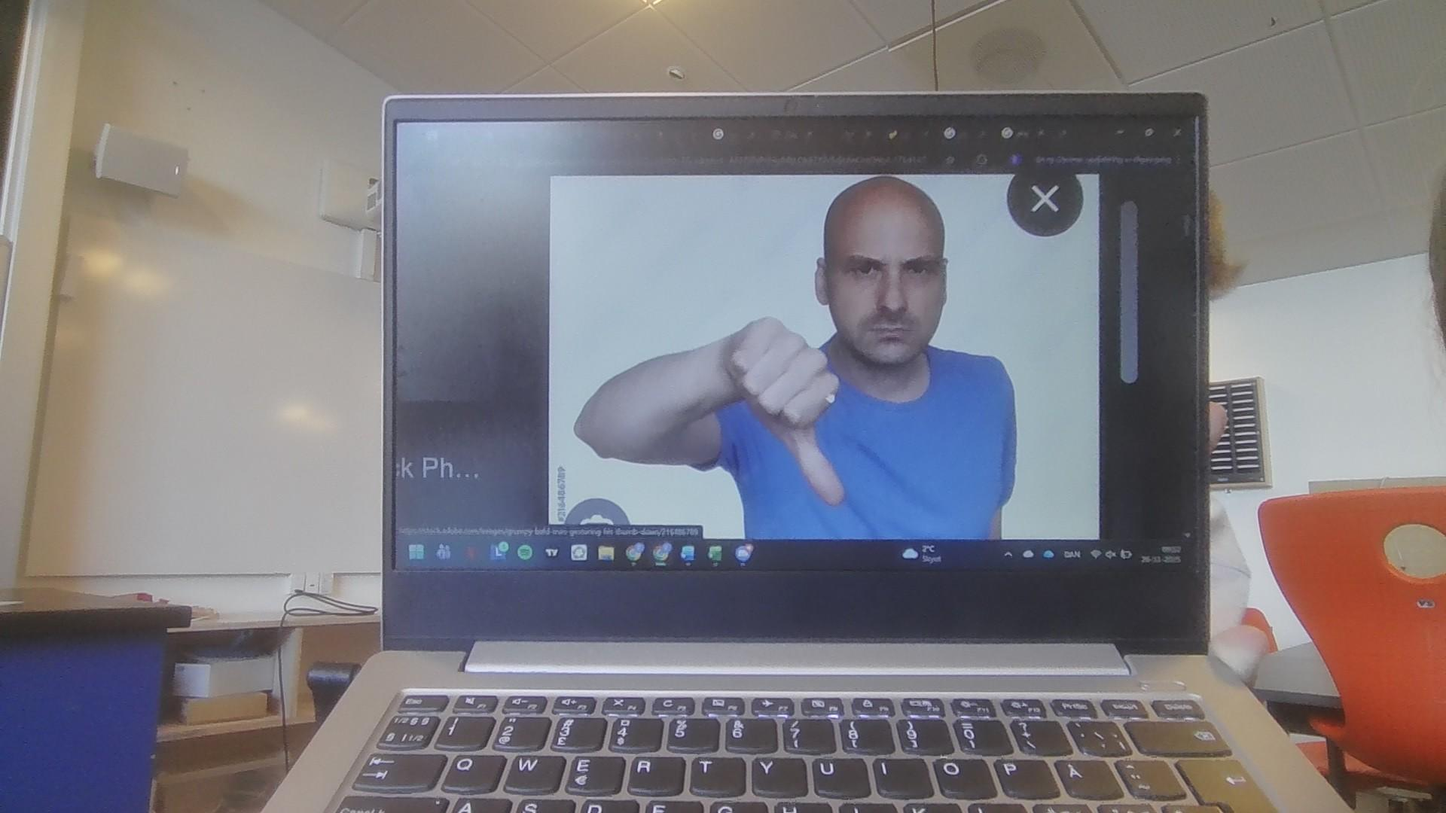thumbs down: (723, 317, 852, 517)
